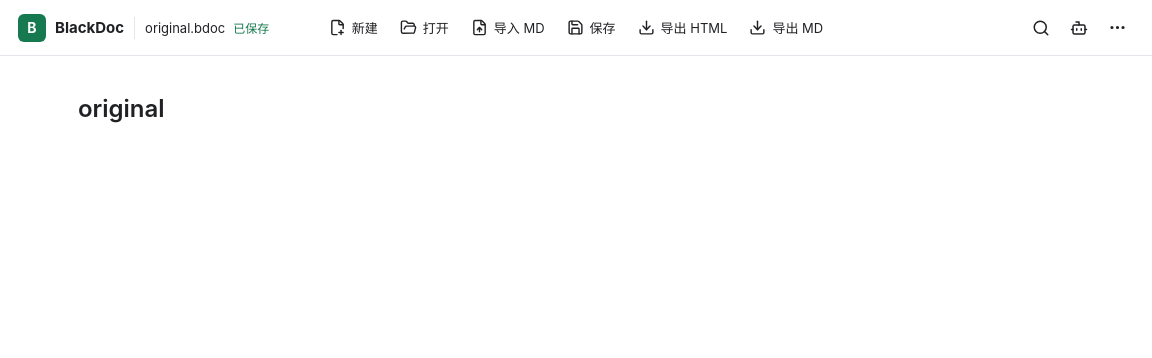
Test case: desktop App lifecycle › keeps Markdown warnings until dismissed and expires success feedback (warnings: ["链接丢失"])
Click the button named "更多操作".
click(1117, 28)  # box [1100, 10, 1134, 44]
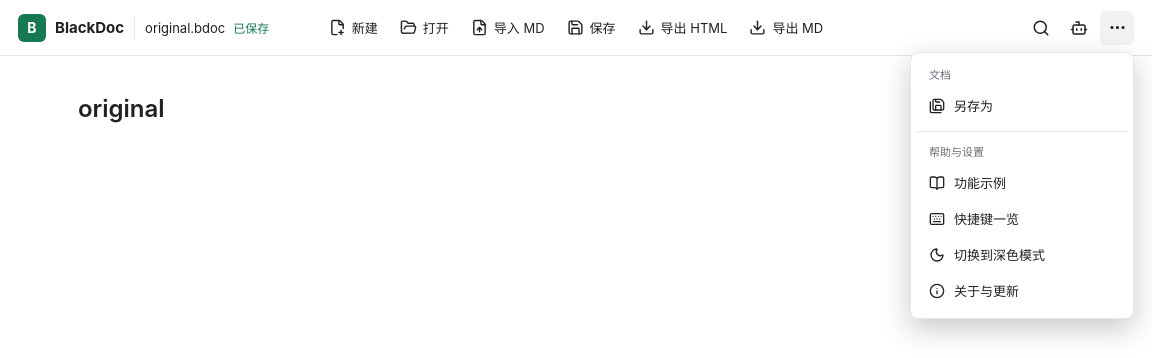
Click the button with aria-label "导入 Markdown".
click(508, 28)  # box [462, 10, 554, 44]
Wait 5000 ms
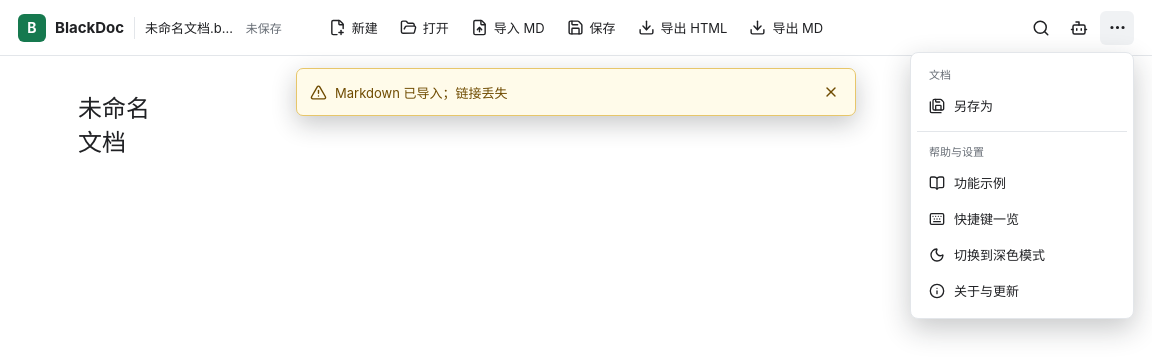
Result: the message "Markdown 已导入；链接丢失" is shown at [296, 68, 856, 116]
